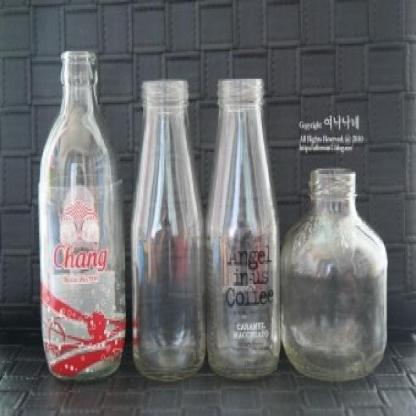Glass Bottle: (38, 52, 126, 382), (278, 170, 388, 382), (130, 80, 206, 380), (206, 80, 282, 378)
